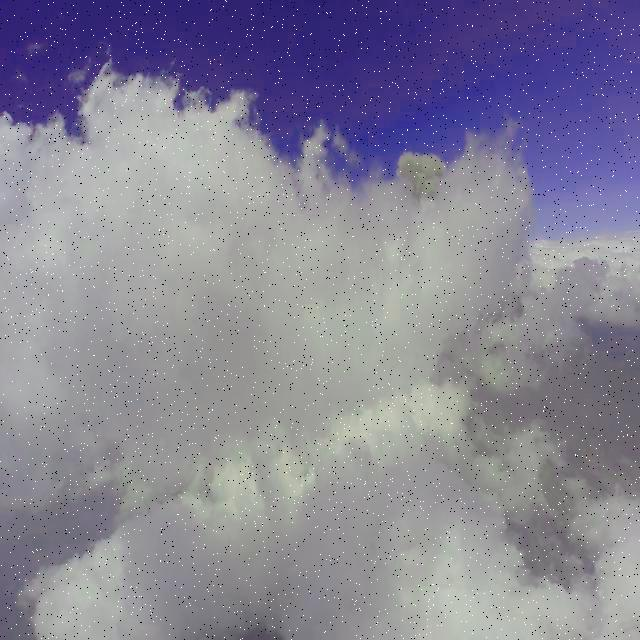Plume: (396, 138, 448, 204)
